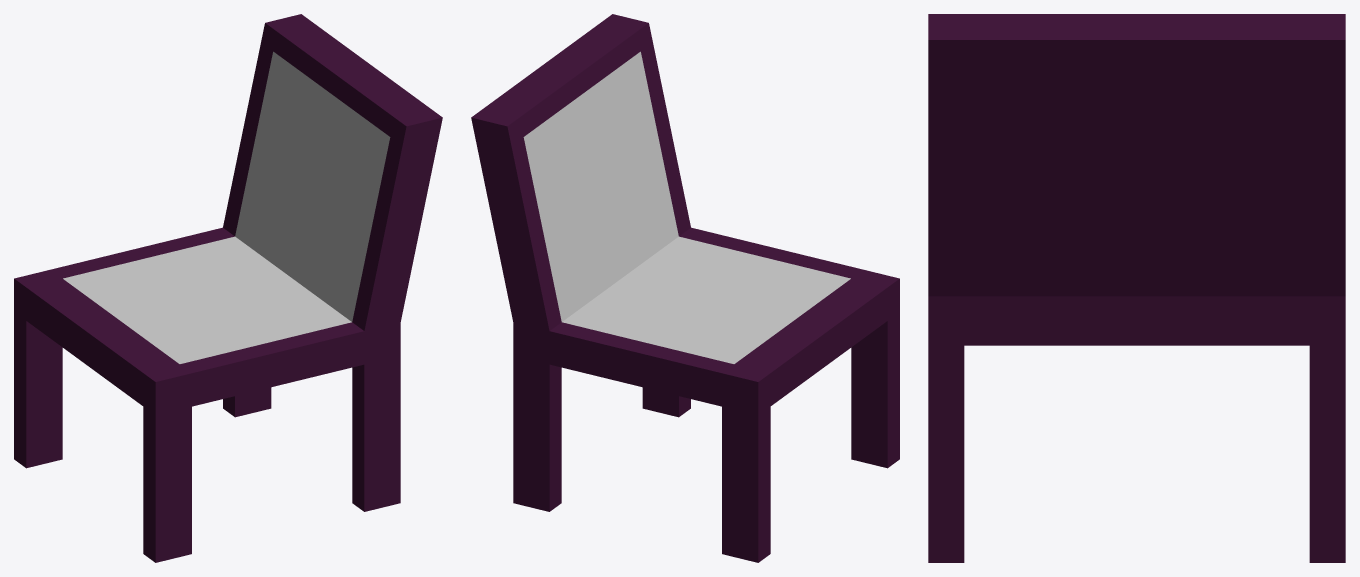
File: chair.fbx
3 renders of one model, left to right at view 1: azimuth 30°, elevation 25°; view 2: azimuth 150°, elevation 25°; view 3: azimuth 270°, elevation 25°, orthographic. The views are drawn at different scales.
Parts seen in each view (by area): view 1: chair; view 2: chair; view 3: chair.
Boxes of the visible parts, x1,y1,x2,y2 form: chair: [14, 14, 442, 562]; chair: [471, 14, 899, 562]; chair: [928, 14, 1345, 562].
Size of the model in its own units: 81.24 by 101 by 69.32.
